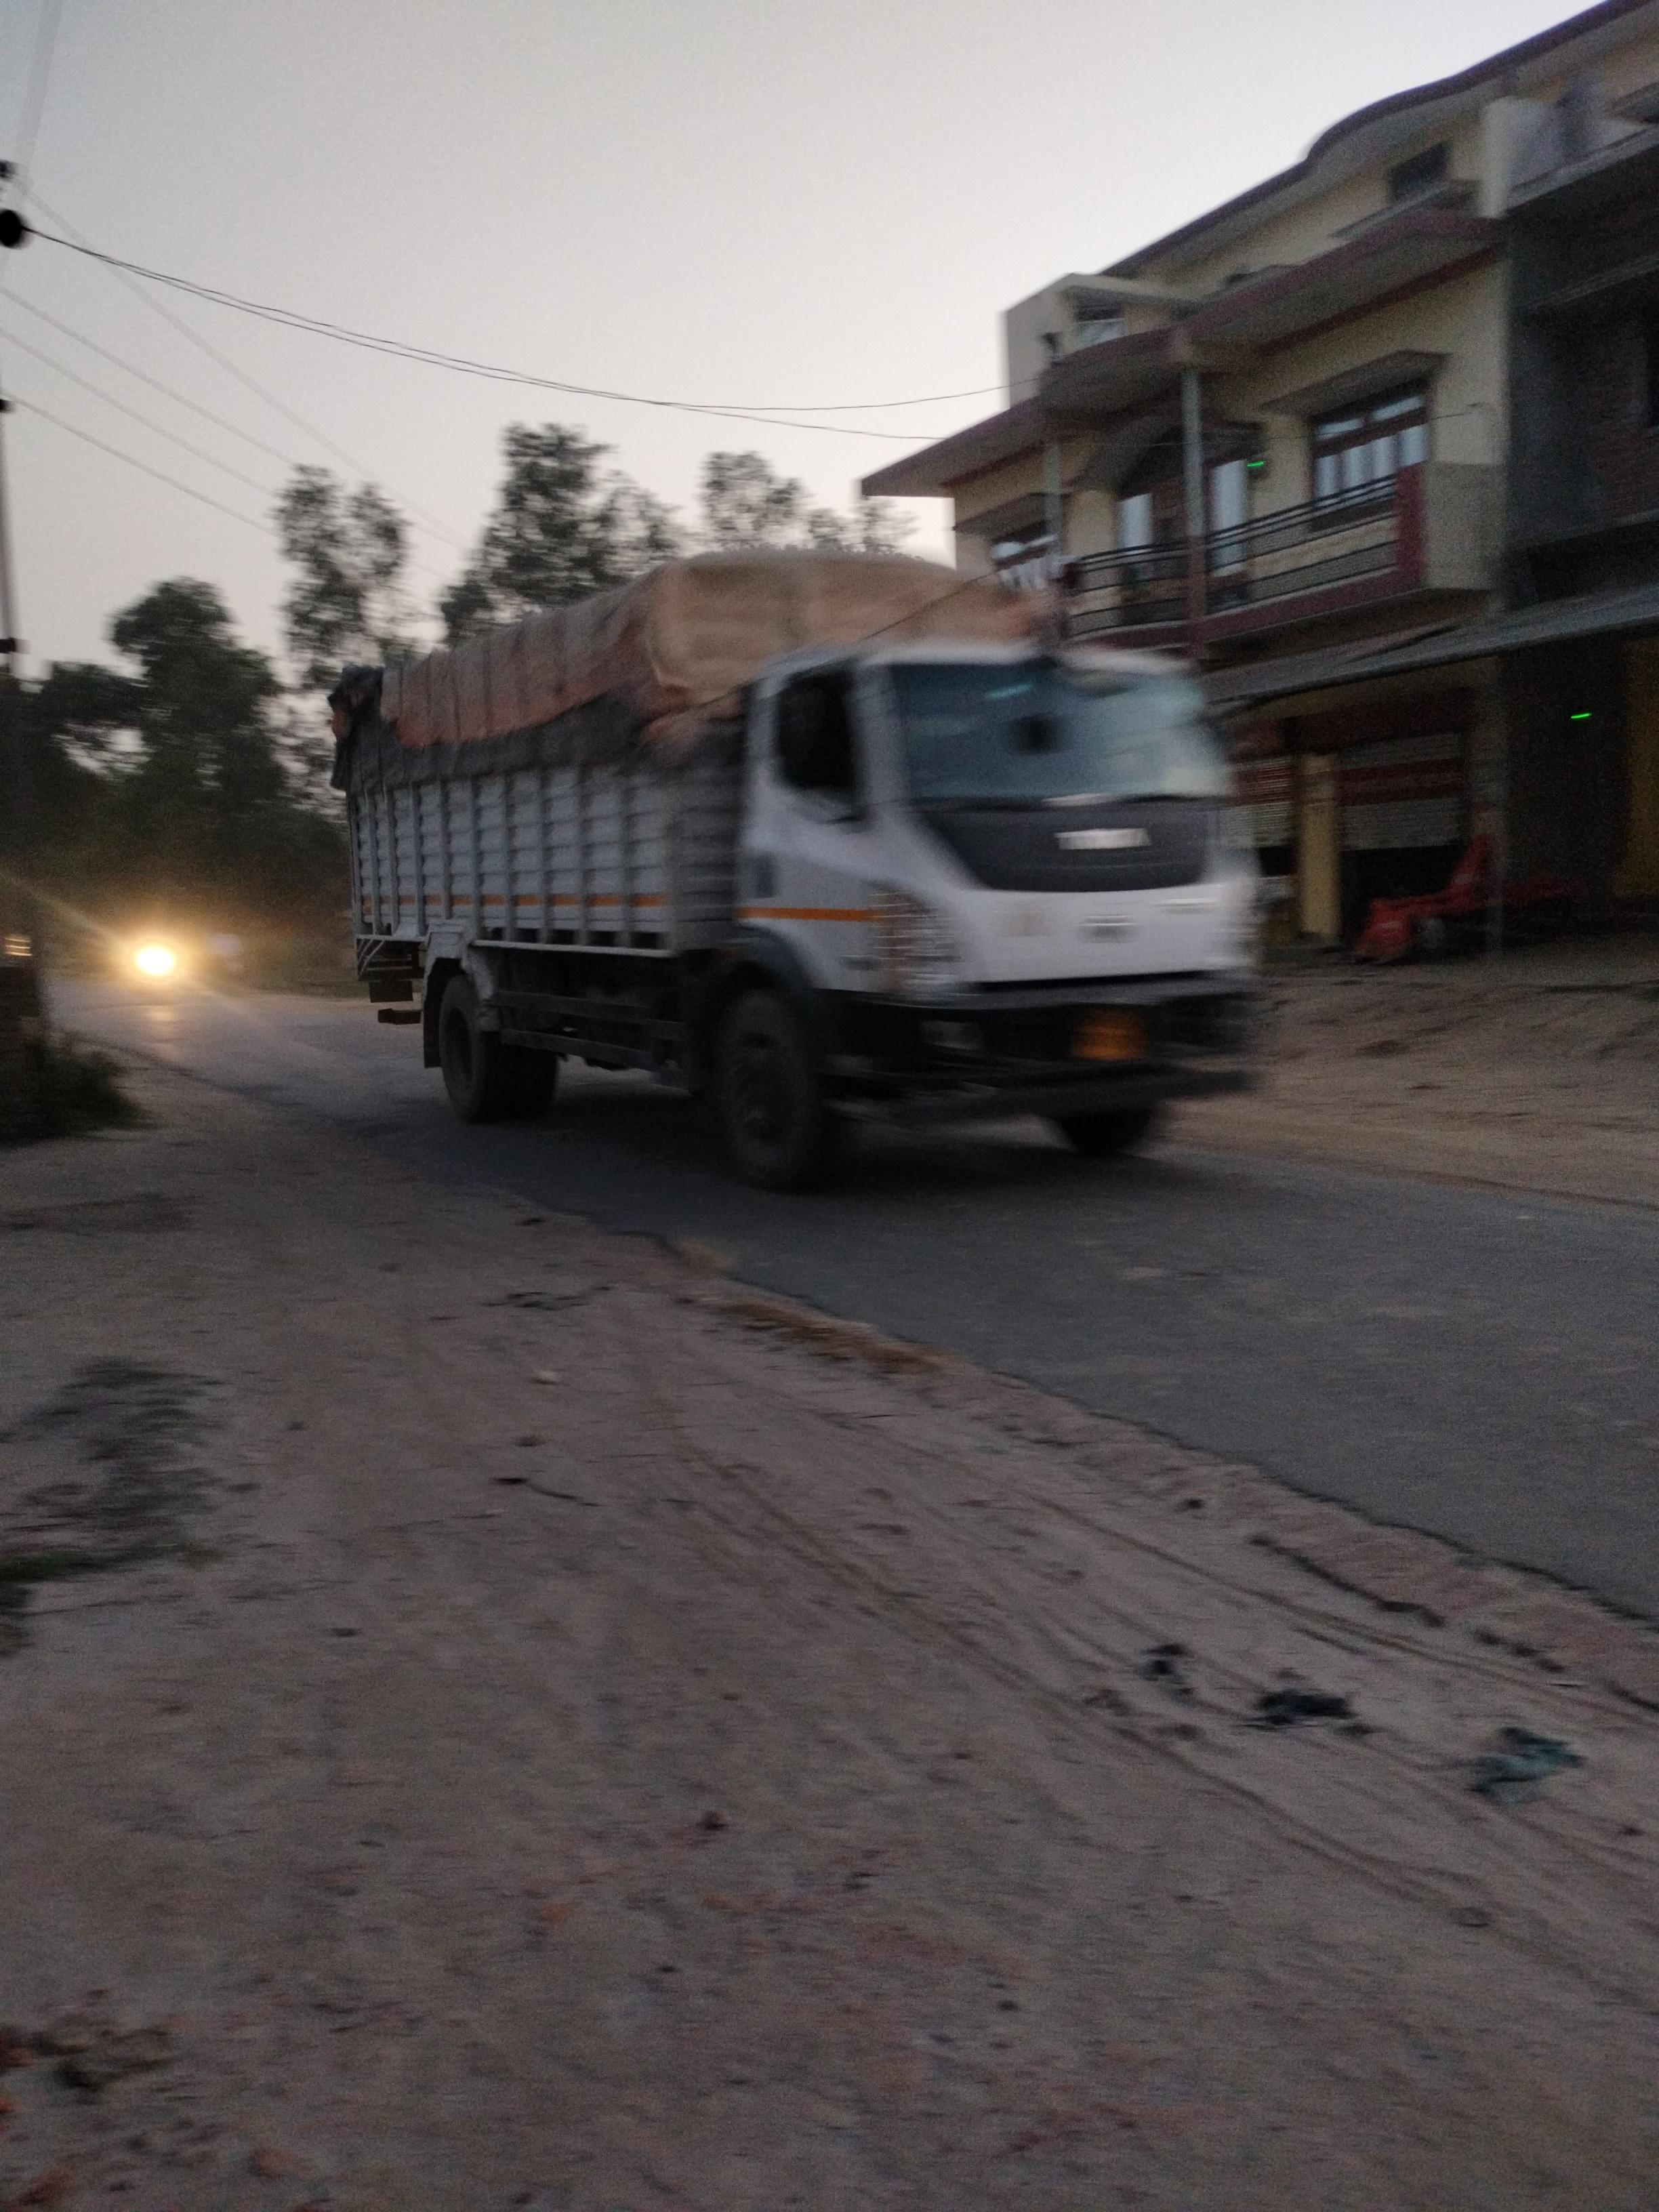Truck: (366, 620, 1246, 1209)
